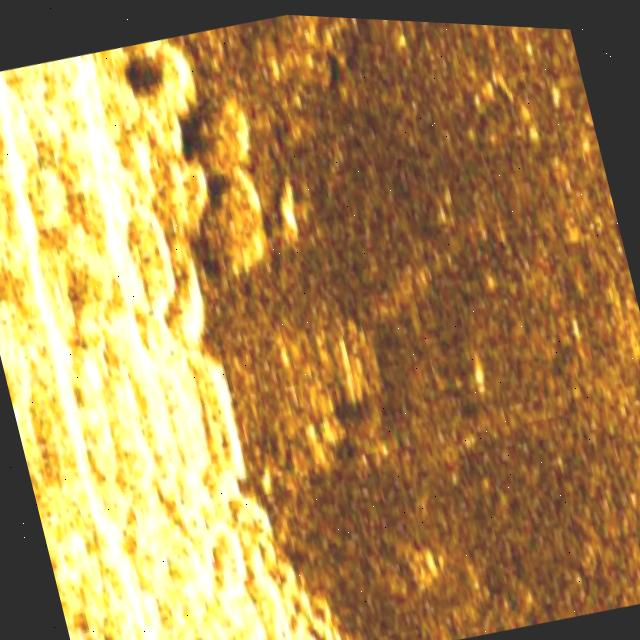bedrock group: (0, 13, 381, 640)
